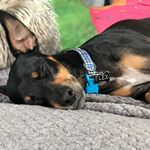puppy: (2, 36, 150, 112)
